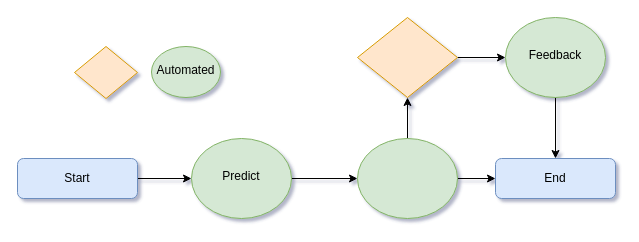
Some shapes in this 639 by 242 pixel diagram are drawn without their labels. Here are the shapes that lost their labels. From the top down, the centre of each, then its label:
At (106,72): "Manual".
At (407,57): "Inspect and correct".
At (407,178): "Compare with Ground Truth".
